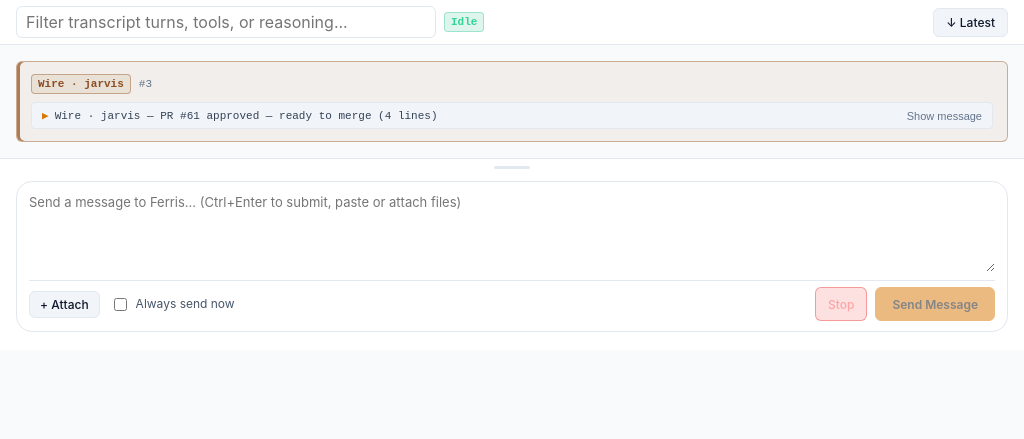
Test case: collapsible Wire cards › collapses wire turns by default with a Subject summary and expands on toggle
Expected: the text "CI is green on the branch" is not shown
Click the button with test id "wire-output-toggle": (246, 116) [32,103,992,128]
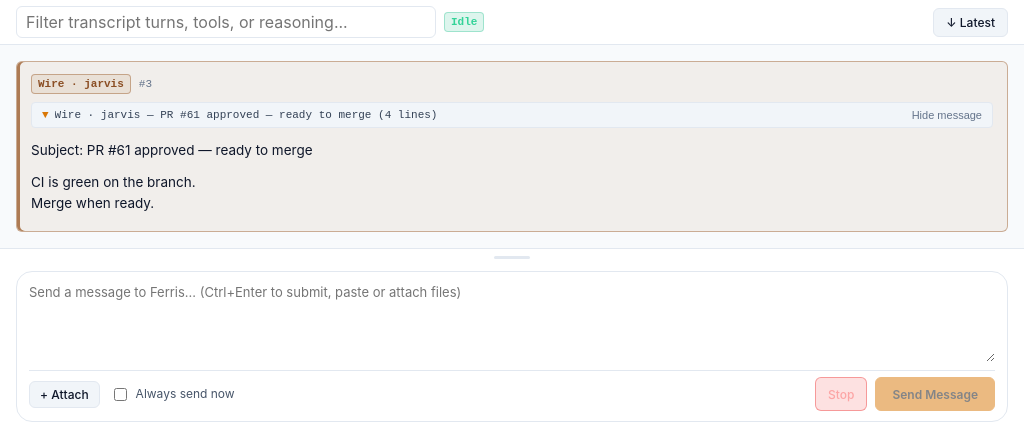
Expected: the button with test id "wire-output-toggle" is expanded
Expected: the text "CI is green on the branch.Merge when ready." is shown, [31,174,196,212]
Click the button with test id "wire-output-toggle": (246, 115) [32,103,992,127]
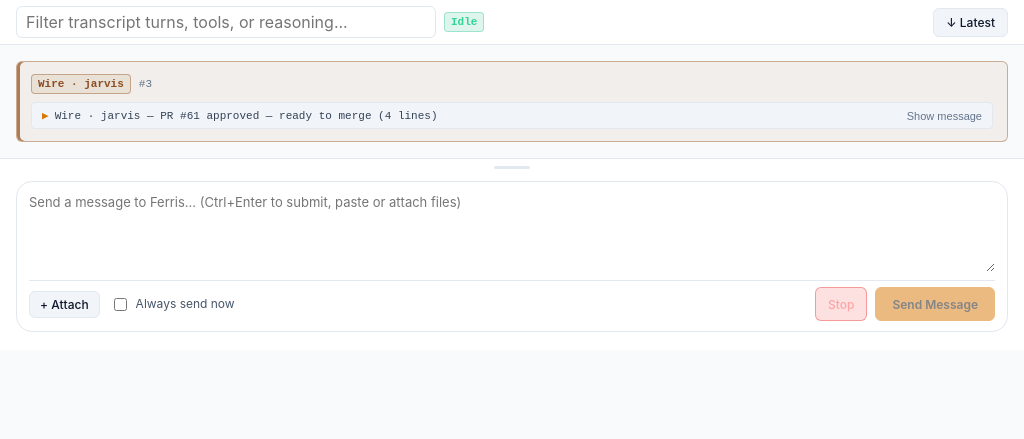
Expected: the button with test id "wire-output-toggle" is collapsed, [32,103,992,128]
Expected: the text "CI is green on the branch" is gone
